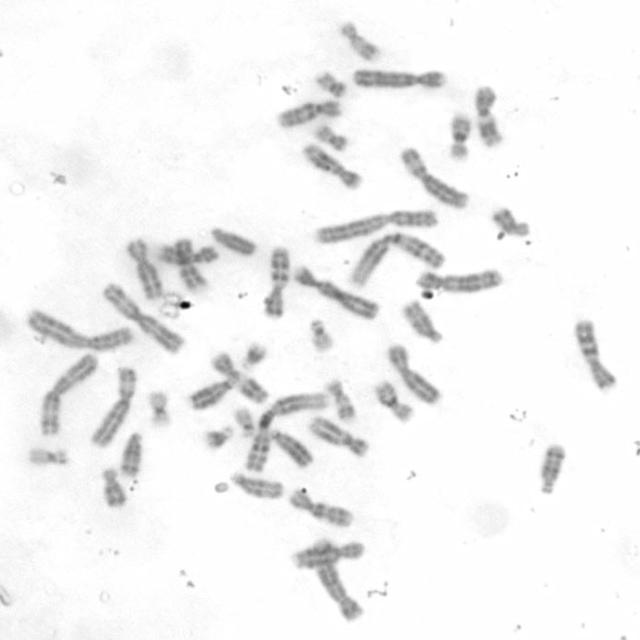A1: (242, 389, 331, 474), (349, 230, 447, 289)
A2: (24, 306, 134, 354), (312, 207, 439, 246)
A3: (102, 280, 187, 356), (36, 352, 100, 438)
B4: (292, 262, 381, 321), (350, 66, 448, 91)
B5: (306, 534, 367, 624), (414, 267, 504, 293)
C10: (288, 488, 356, 528), (272, 98, 345, 131)
C11: (208, 350, 271, 404), (471, 83, 507, 150)
C12: (301, 142, 366, 193), (306, 413, 372, 460)
C6: (397, 143, 472, 210), (88, 364, 138, 449)
C7: (572, 316, 620, 392), (262, 244, 292, 319)
C8: (124, 237, 166, 300), (289, 540, 365, 572)
C9: (172, 236, 210, 293), (153, 240, 219, 266)
D13: (266, 428, 315, 470), (187, 378, 235, 411)
D14: (537, 440, 567, 496), (117, 430, 146, 478)
D15: (401, 299, 448, 346), (228, 469, 283, 501)
E16: (373, 378, 416, 425), (446, 113, 474, 162)
E17: (338, 18, 381, 62), (322, 375, 358, 422)
E18: (489, 204, 532, 238), (98, 465, 129, 509)
F19: (145, 388, 174, 429), (25, 445, 71, 466)
F20: (311, 121, 350, 154), (312, 69, 349, 100)
G21: (240, 339, 268, 371), (203, 424, 235, 451)
G22: (308, 314, 338, 356), (232, 404, 256, 440)
X: (386, 341, 444, 407)
Y: (209, 224, 256, 256)
